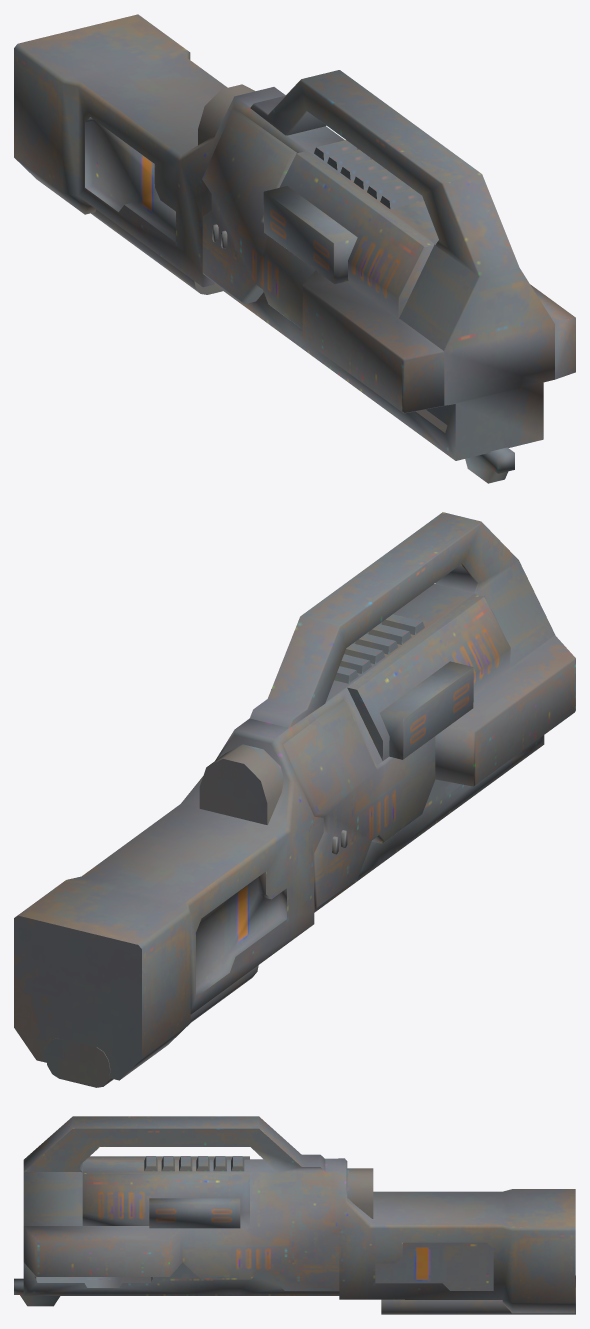
File: body2.obj
3 renders of one model, top to bottom at view 1: azimuth 30°, elevation 25°; view 2: azimuth 150°, elevation 25°; view 3: azimuth 270°, elevation 25°, orthographic. The views are drawn at different scales.
Parts seen in each view (by area): view 1: body2; view 2: body2; view 3: body2.
Part boxes in pixels (x1=…): body2: x1=14, y1=14, x2=575, y2=483; body2: x1=14, y1=512, x2=575, y2=1087; body2: x1=14, y1=1116, x2=575, y2=1314.
Size of the model in its own units: 12.86 by 20.23 by 55.44.
